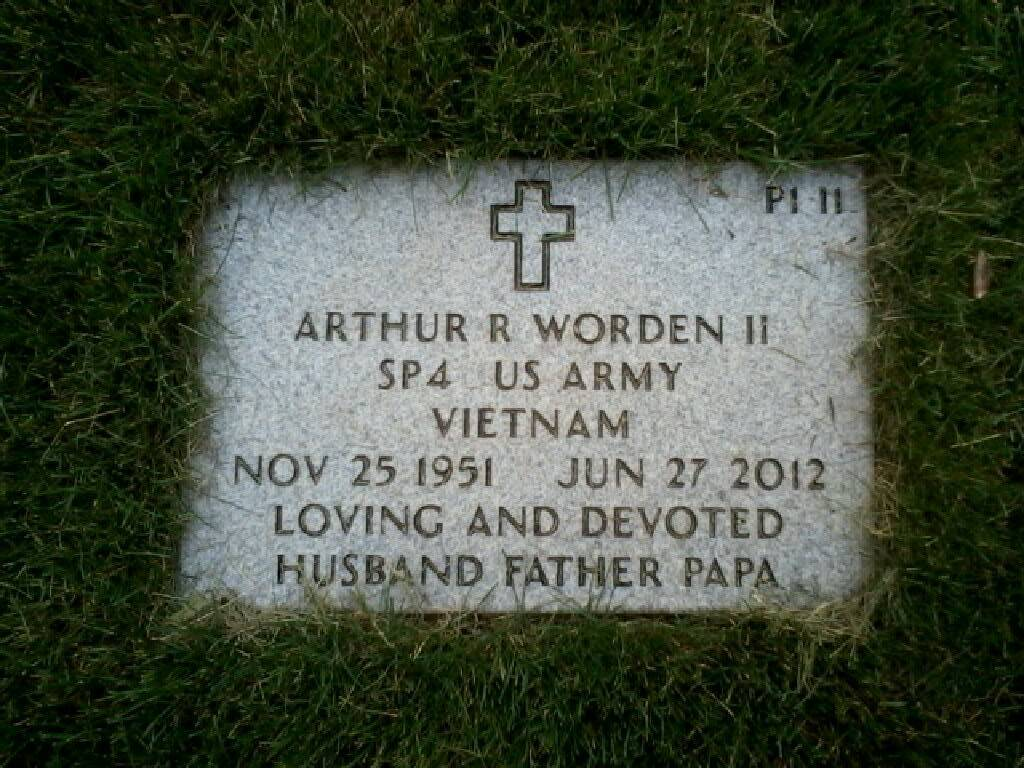flat: (179, 151, 871, 617)
